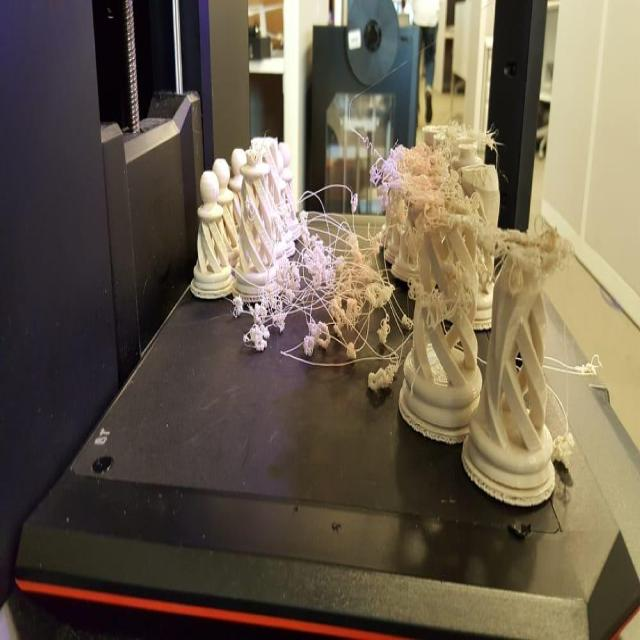Spaghetti: (258, 155, 400, 399), (381, 120, 577, 268), (230, 282, 280, 354), (542, 336, 604, 381), (548, 427, 580, 473), (245, 139, 262, 220)
